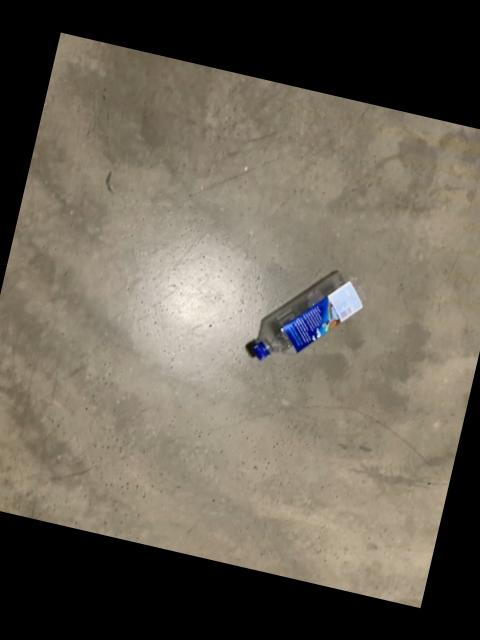plastic: (243, 269, 359, 357)
